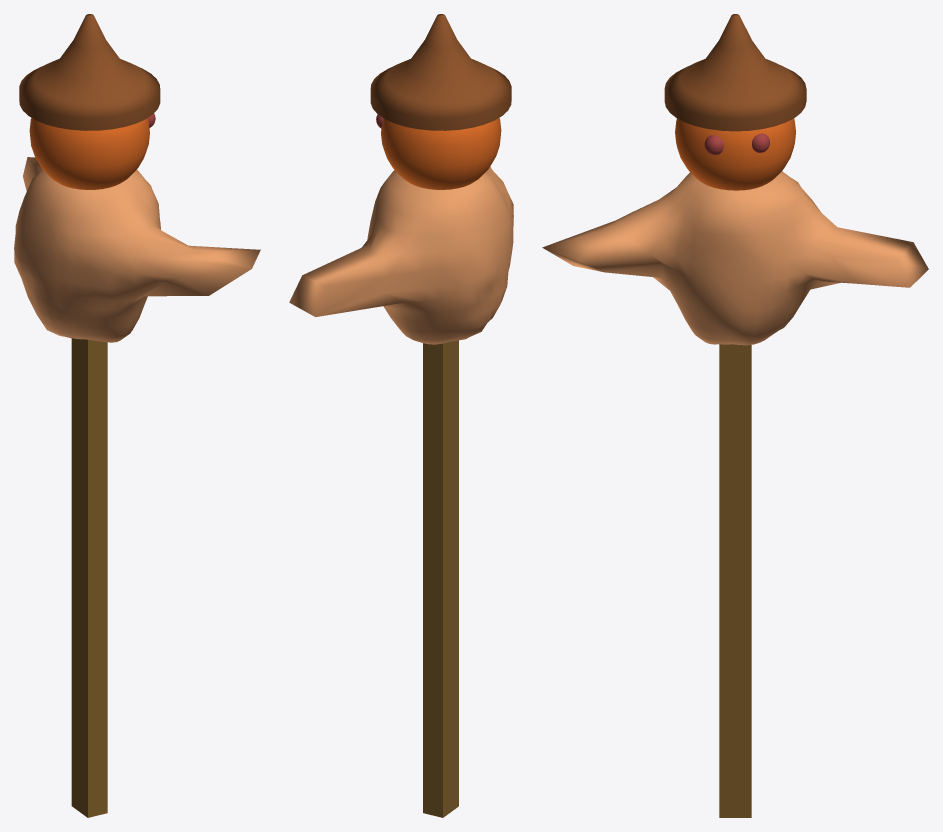
Rendered from scarecrow.fbx.
3 views of the same model, side by side, from view 1: azimuth 30°, elevation 25°; view 2: azimuth 150°, elevation 25°; view 3: azimuth 270°, elevation 25° (orthographic).
Parts seen in each view (by area): view 1: Cube; view 2: Cube; view 3: Cube.
Part boxes in pixels (x1,y1,x2,y2): Cube: (14,14,260,817); Cube: (289,14,513,817); Cube: (542,14,928,817).
Size of the model in its own units: 31.69 by 156 by 68.53.
